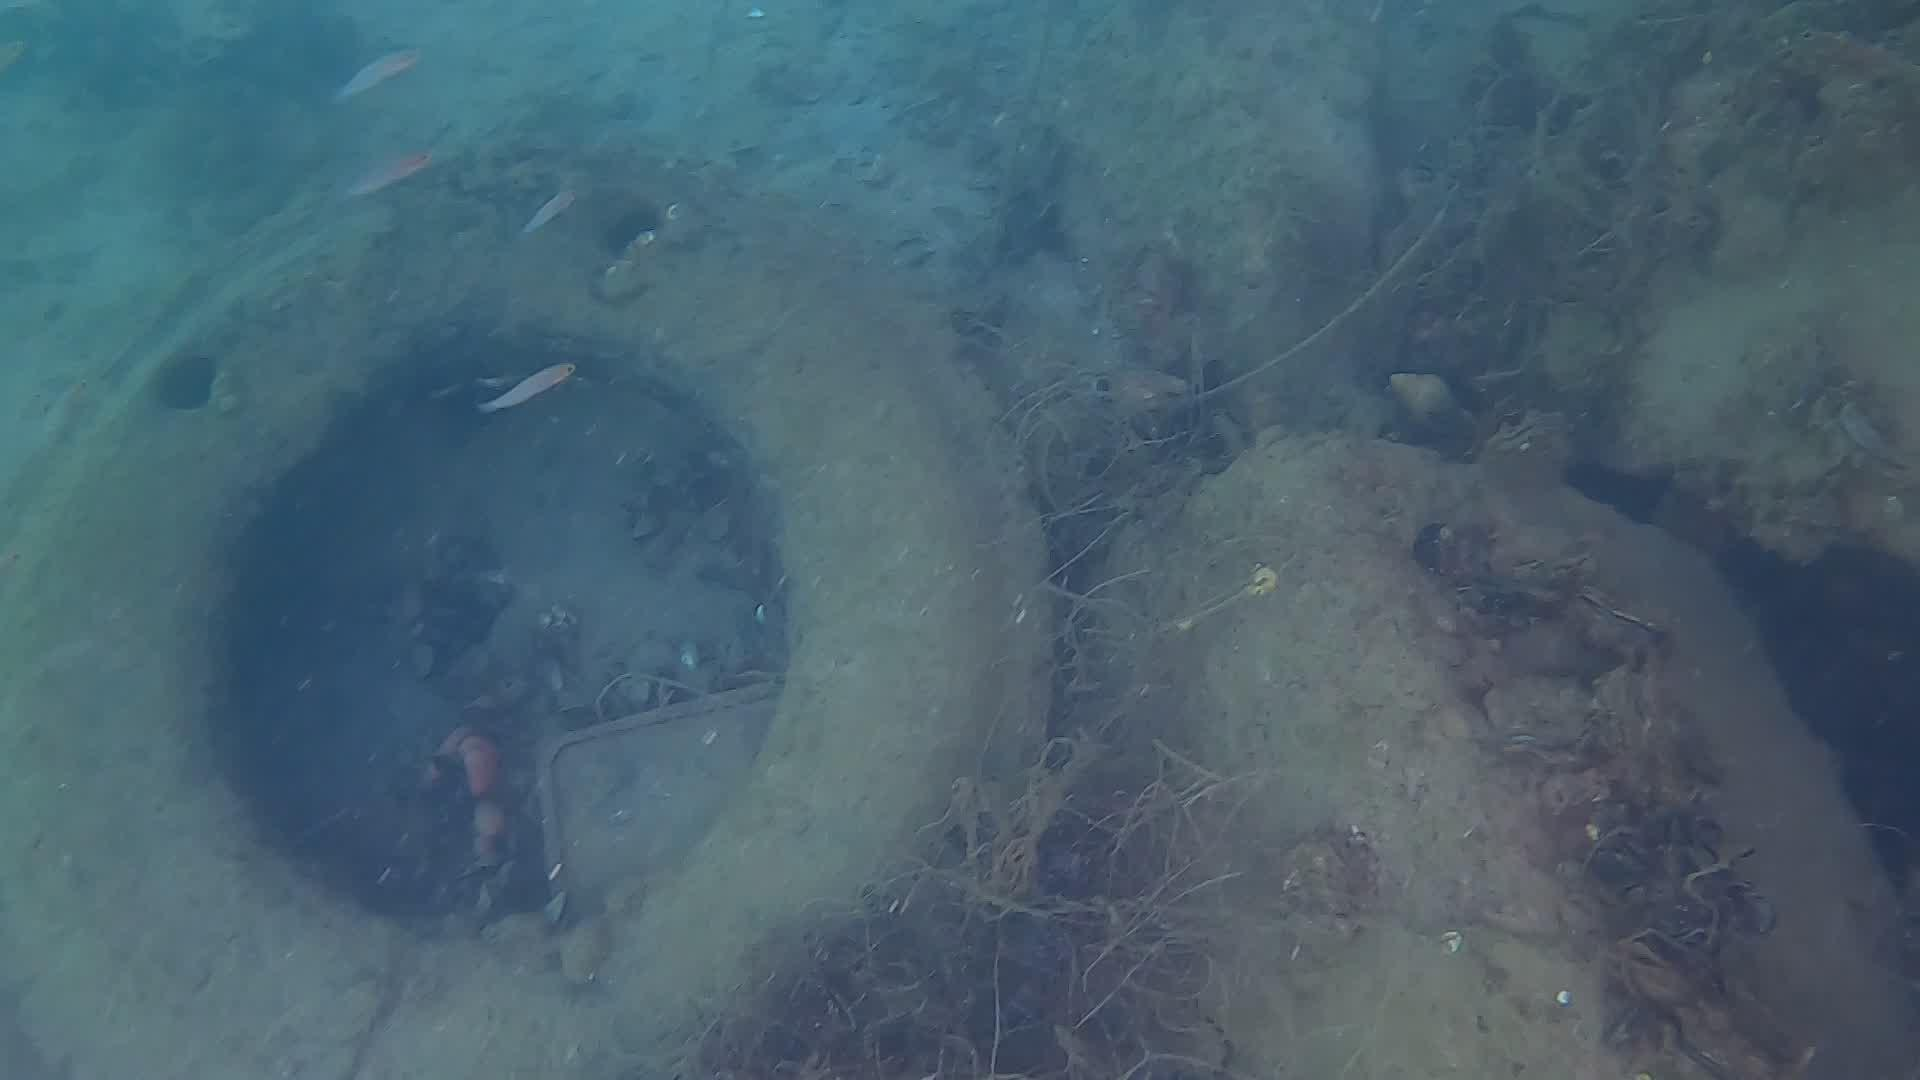tire: (0, 152, 1048, 1080)
